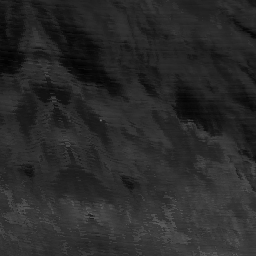Target: (98, 118, 102, 122)
